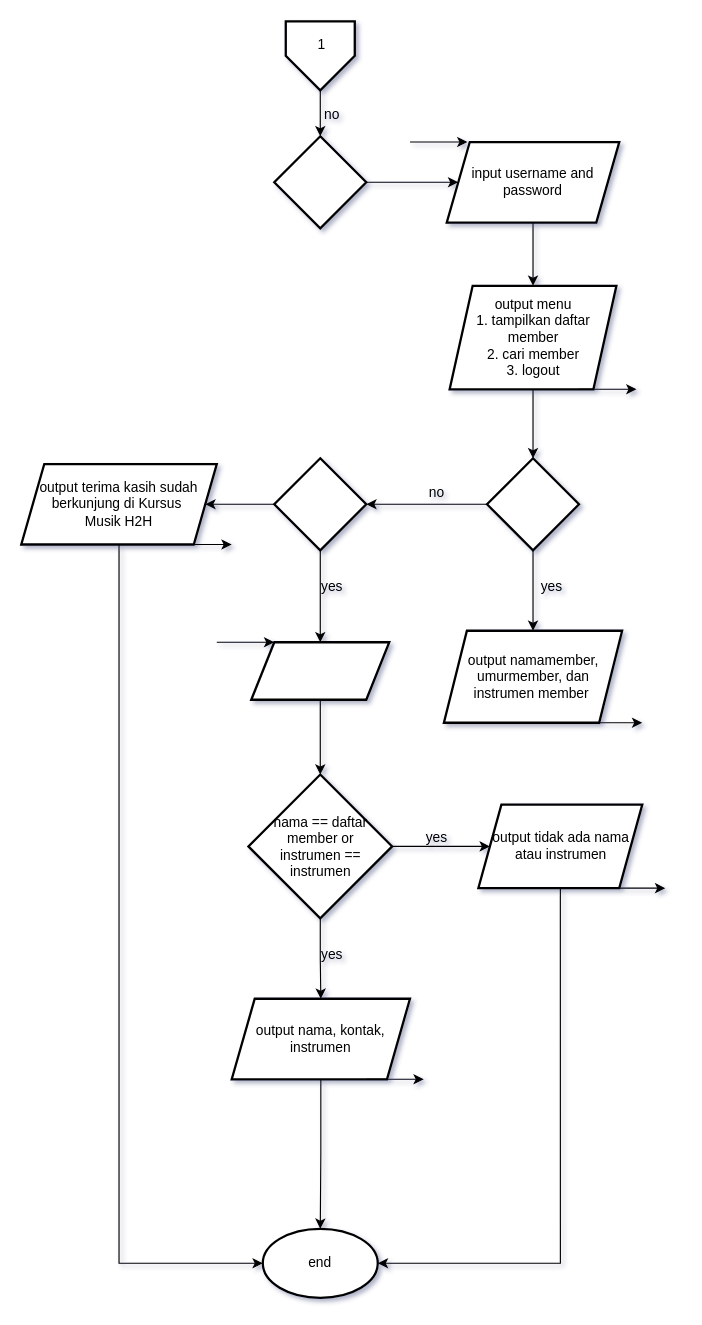
This 702x1325 diagram has some shape labels left out. The shapes that lost their labels are listed below. From the top down, each one's box as (x1, y1, x2, y2) in pixels, then its label:
(273, 135, 367, 229): role == "member"
(273, 457, 367, 551): pilih == 2
(485, 457, 580, 551): pilih == 1
(250, 641, 390, 700): input nama atau instrumen
